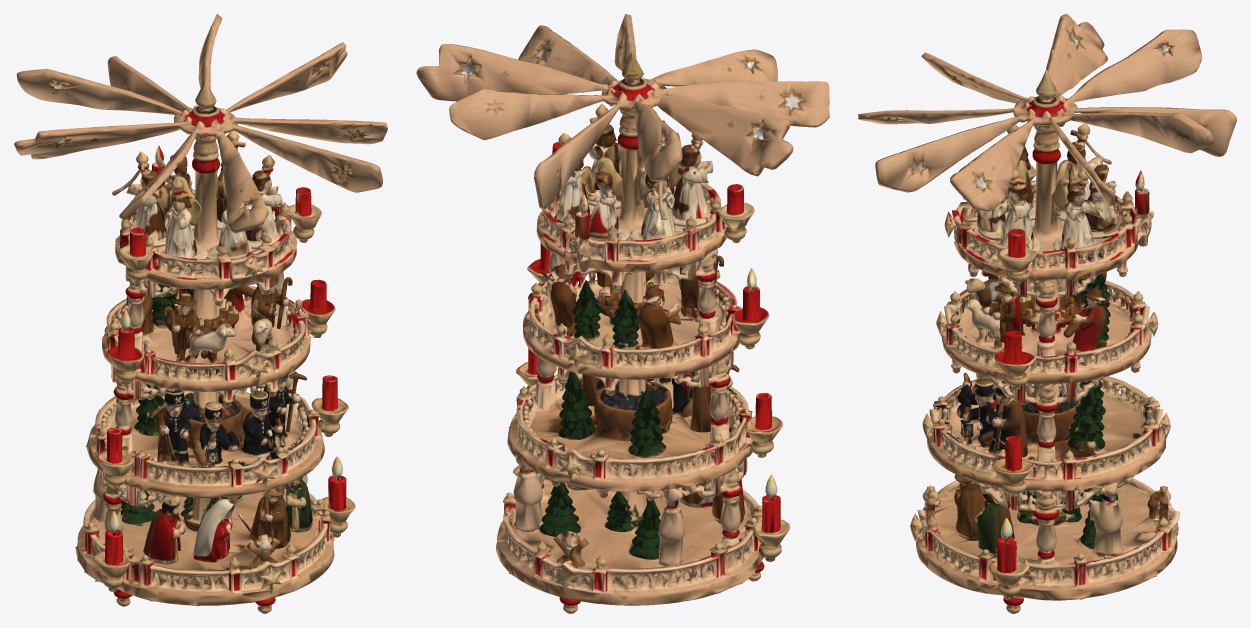
The picture shows the model from 3 angles, left to right: view 1: azimuth 30°, elevation 25°; view 2: azimuth 150°, elevation 25°; view 3: azimuth 270°, elevation 25°; orthographic projection. The views are drawn at different scales.
Bounding box in the file's own units: 1.39 × 1.9 × 1.32.
Materials: 1 (1 with a texture image).
